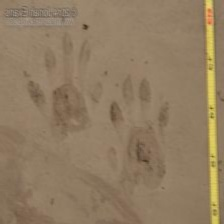raccoon: (23, 34, 110, 142), (100, 76, 178, 191)
